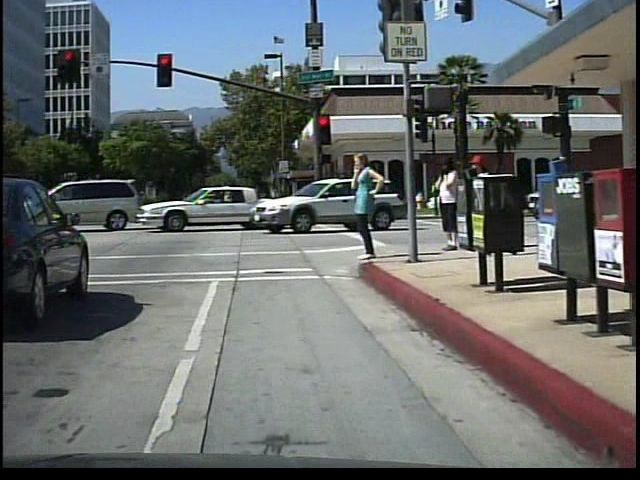person: (346, 147, 385, 266), (459, 146, 495, 252), (433, 149, 466, 252)
